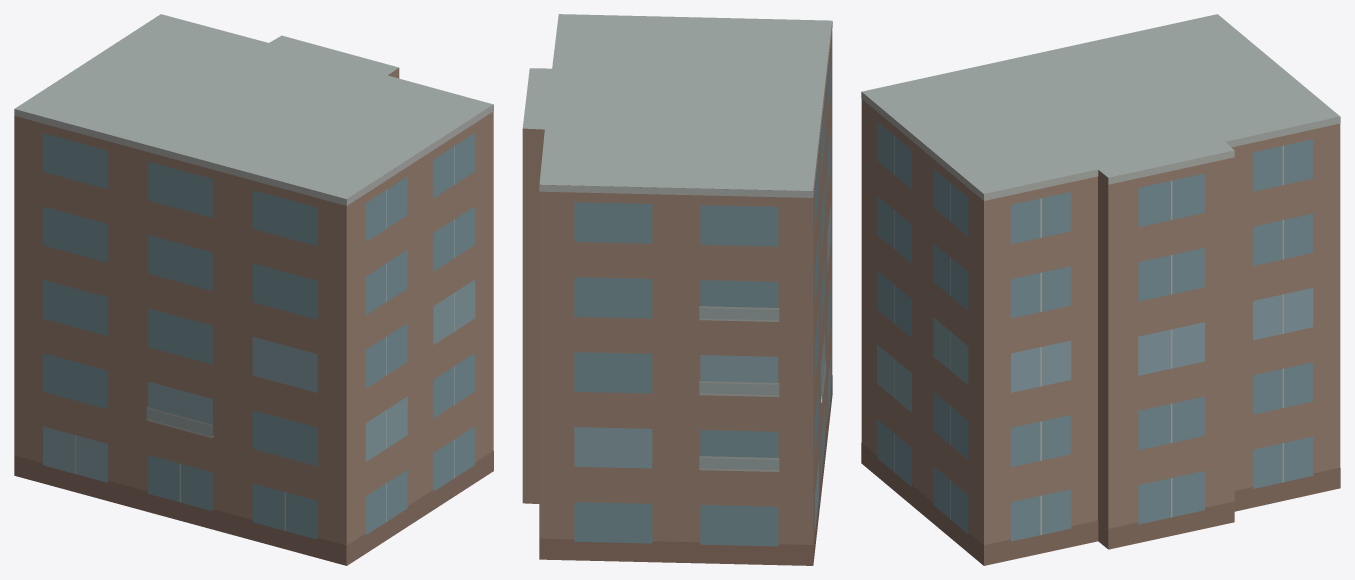
File: survey-upis-32840687.glb
3 renders of one model, left to right at view 1: azimuth 30°, elevation 25°; view 2: azimuth 150°, elevation 25°; view 3: azimuth 270°, elevation 25°, orthographic. The views are drawn at different scales.
Visible parts, largest first — view 1: survey-upis-32840687.tmp; view 2: survey-upis-32840687.tmp; view 3: survey-upis-32840687.tmp.
Part boxes in pixels (<box>): survey-upis-32840687.tmp: <box>14,14,493,565</box>; survey-upis-32840687.tmp: <box>522,14,832,565</box>; survey-upis-32840687.tmp: <box>861,14,1340,565</box>.
Size of the model in its own units: 13.73 by 13.2 by 15.42.
